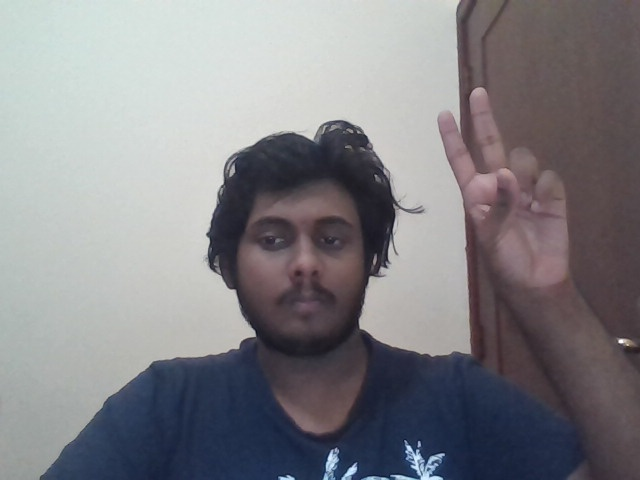peace: (436, 86, 571, 291)
